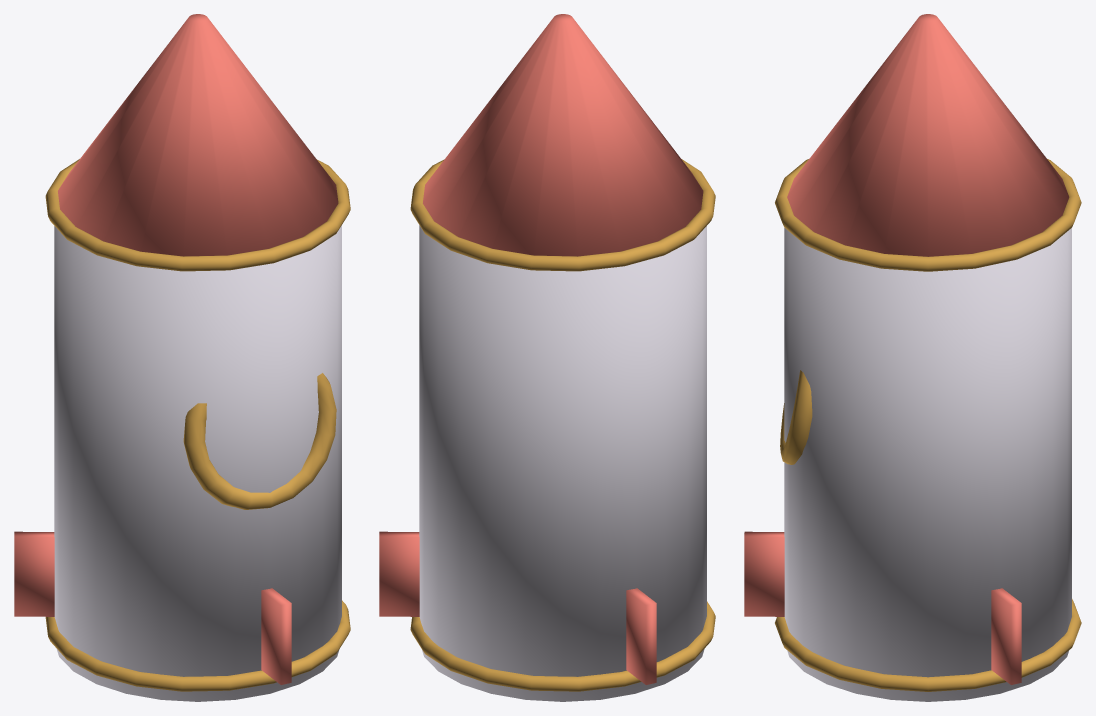
The model's file is opera_astronaut_rocket.glb.
The picture shows the model from 3 angles, left to right: view 1: azimuth 30°, elevation 25°; view 2: azimuth 150°, elevation 25°; view 3: azimuth 270°, elevation 25°; orthographic projection.
Parts seen in each view (by area): view 1: VisualMesh.005; view 2: VisualMesh.005; view 3: VisualMesh.005.
Part boxes in pixels (x1,y1,x2,y2): VisualMesh.005: [14, 14, 350, 701]; VisualMesh.005: [379, 14, 715, 701]; VisualMesh.005: [744, 14, 1081, 701].
Bounding box in the file's own units: 4.06 × 8.6 × 4.22.
